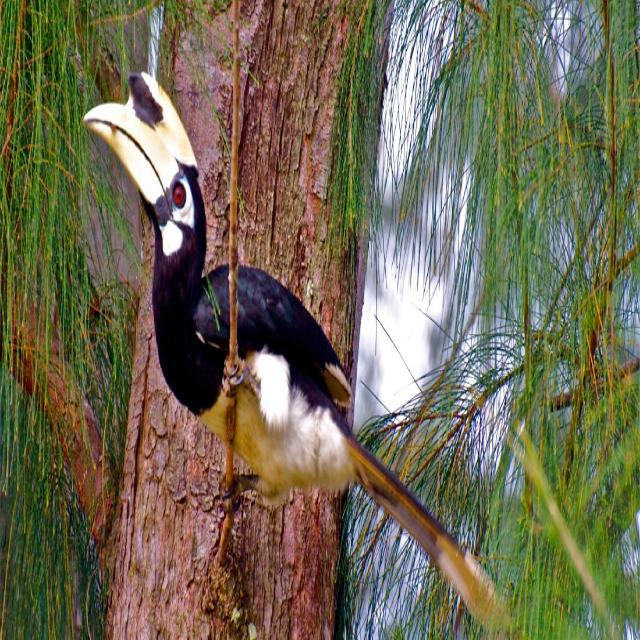Hornbill: (75, 70, 493, 616)
